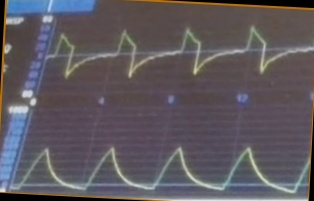Normal Flow: (47, 24, 313, 86)
Normal Volume: (17, 143, 308, 195)
